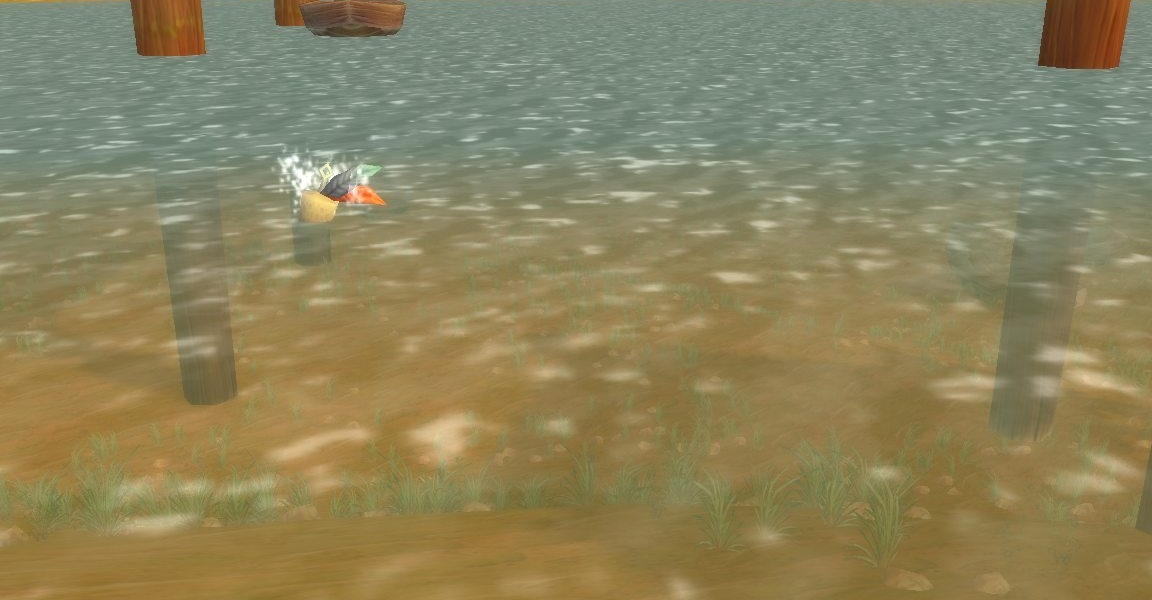Splash: (289, 155, 392, 226)
